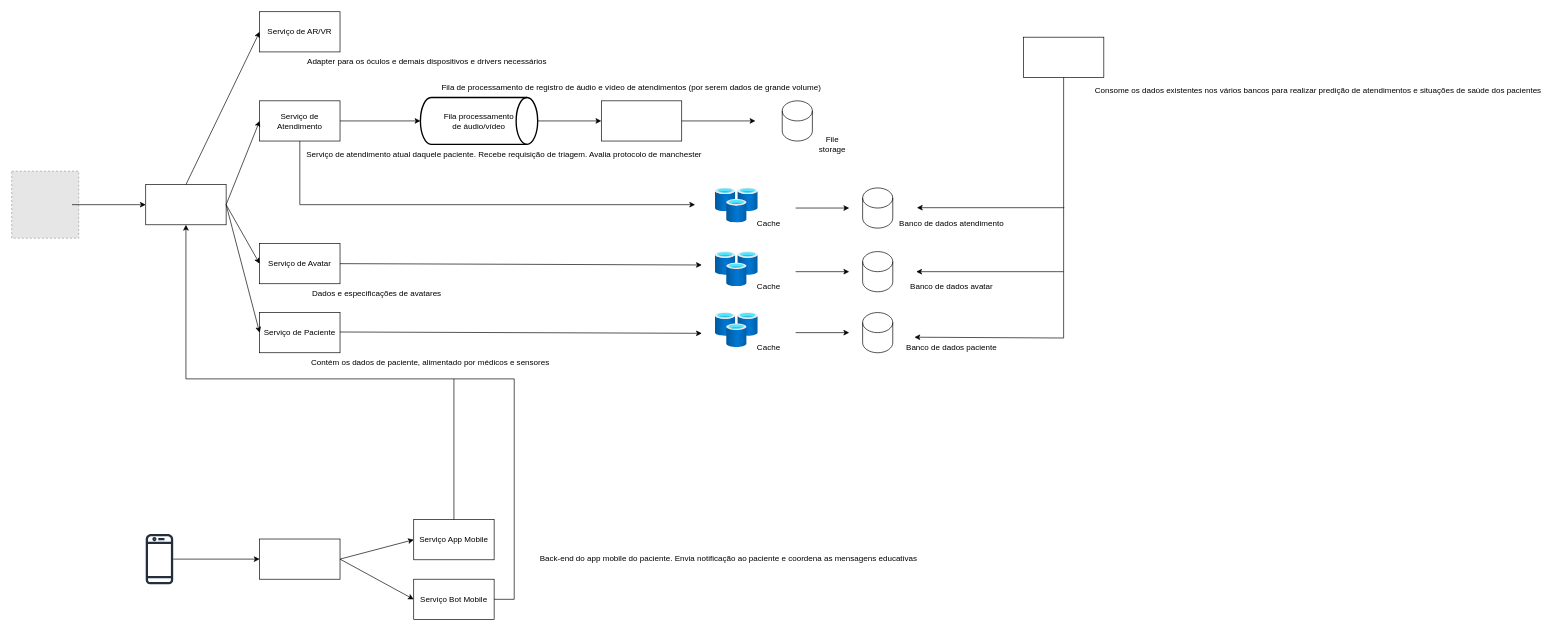
Some shapes in this 1558 by 631 pixel diagram are drawn without their labels. Grey dashed boxes stand in for pictures. The shapes that lost their labels are listed below. From the top down, each one's centre as x and y in pixels, then its label:
At pixel 1063 57: "Serviço de Predição".
At pixel 641 120: "Serviço de Registro (Áudio e Vídeo) de Atendimento".
At pixel 185 204: "Gateway".
At pixel 299 558: "Gateway Mobile".
